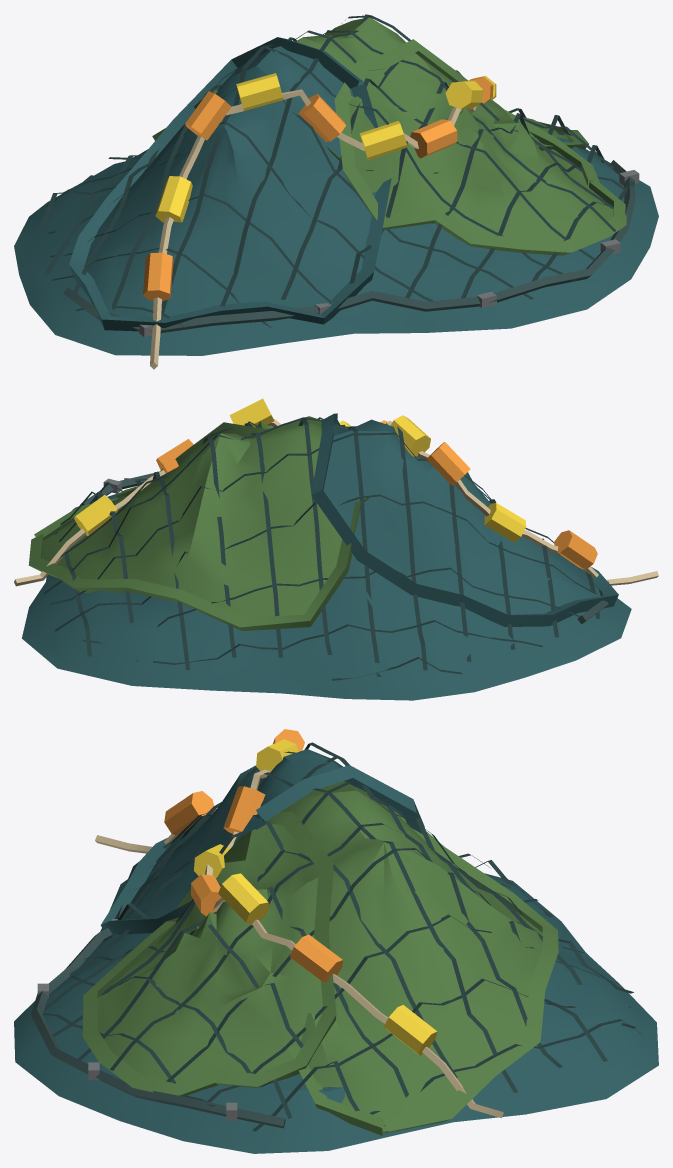
Rendered from net_pile.glb.
3 renders of one model, top to bottom at view 1: azimuth 30°, elevation 25°; view 2: azimuth 150°, elevation 25°; view 3: azimuth 270°, elevation 25°, orthographic. The views are drawn at different scales.
Parts seen in each view (by area): view 1: net_pile_body; view 2: net_pile_body; view 3: net_pile_body.
Part boxes in pixels (left/top/right/bottom): net_pile_body: left=14, top=14, right=658, bottom=369; net_pile_body: left=14, top=398, right=658, bottom=700; net_pile_body: left=14, top=729, right=658, bottom=1153.
Size of what is drawn, in the model's own units: 2.01 by 0.6352 by 1.73.
